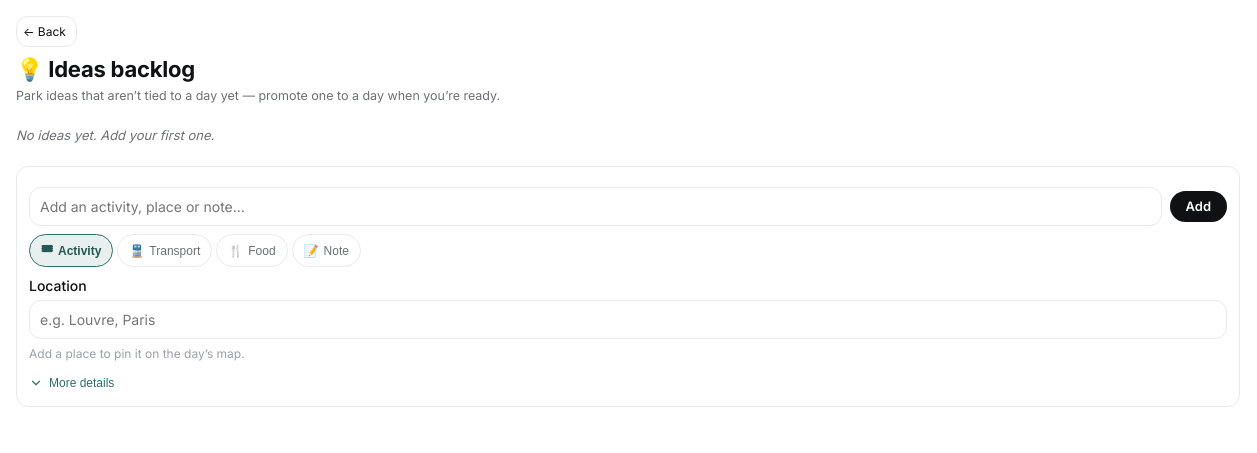
Test: BacklogPage › shows error when add fails
Type "Bad idea" into the field named "Title" at (595, 206), box x1=29 y1=187 x2=1162 y2=226
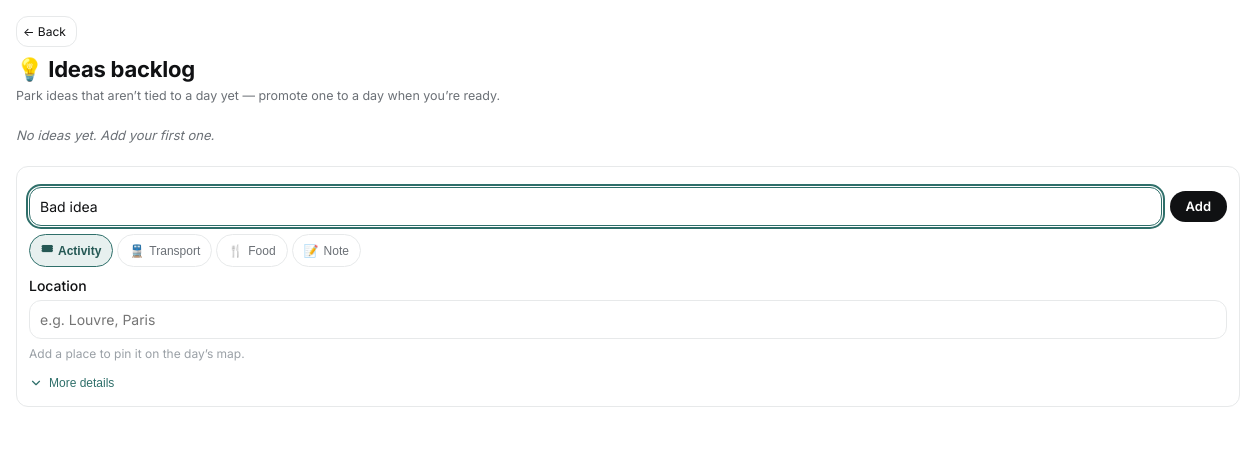
Click the button "Add" at (1198, 206), box x1=1170 y1=191 x2=1227 y2=222
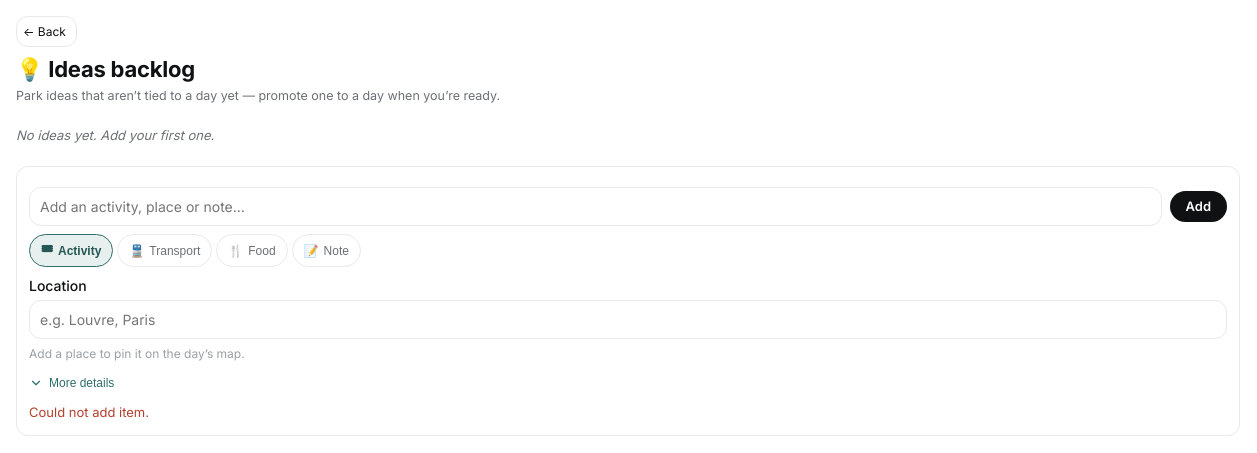
Now the message reads "Could not add item.", box x1=29 y1=404 x2=149 y2=420
